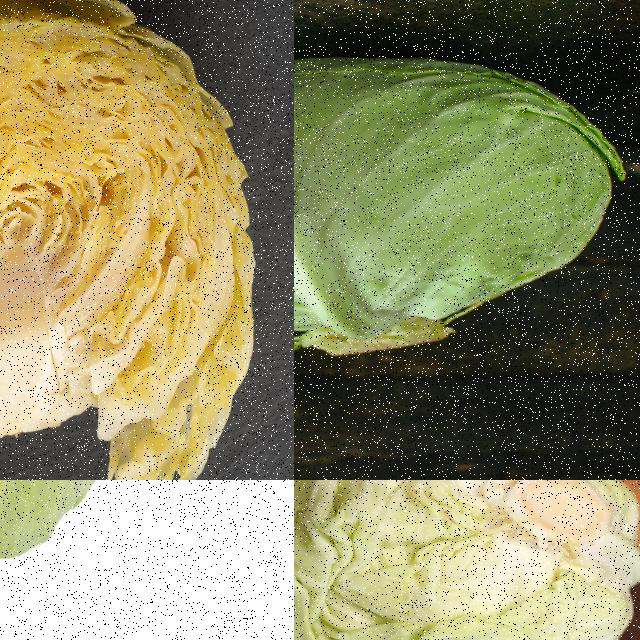cabbage: (0, 0, 265, 479), (294, 51, 630, 359), (294, 480, 639, 639), (0, 480, 198, 596)
